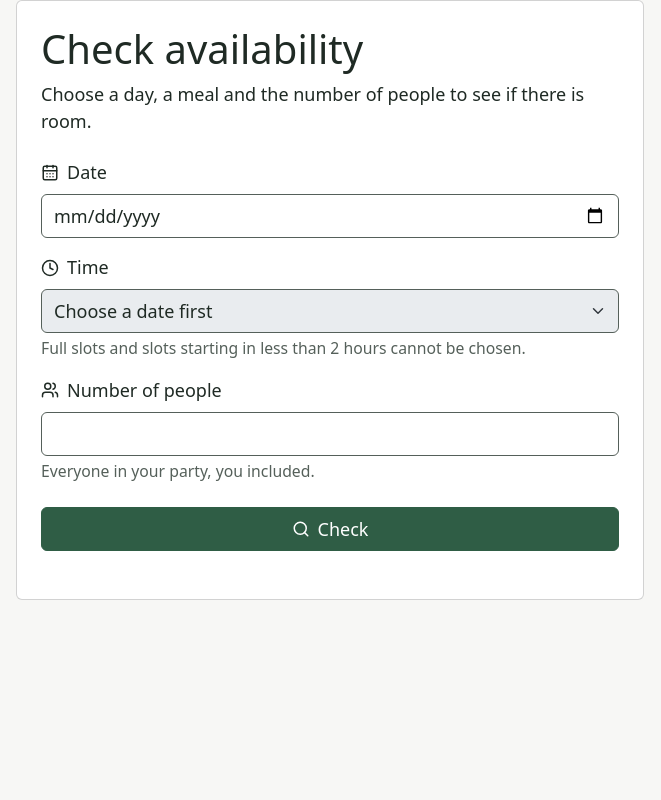
Test: CheckAvailabilityPage › C5: available → announced status with the seat split, no table names
The width and height of the screenshot is (661, 800).
Type "2026-11-03" into the date field labelled "Date".
click(330, 216); type("2026-11-03")  # box top-left (41, 194), bottom-right (619, 238)
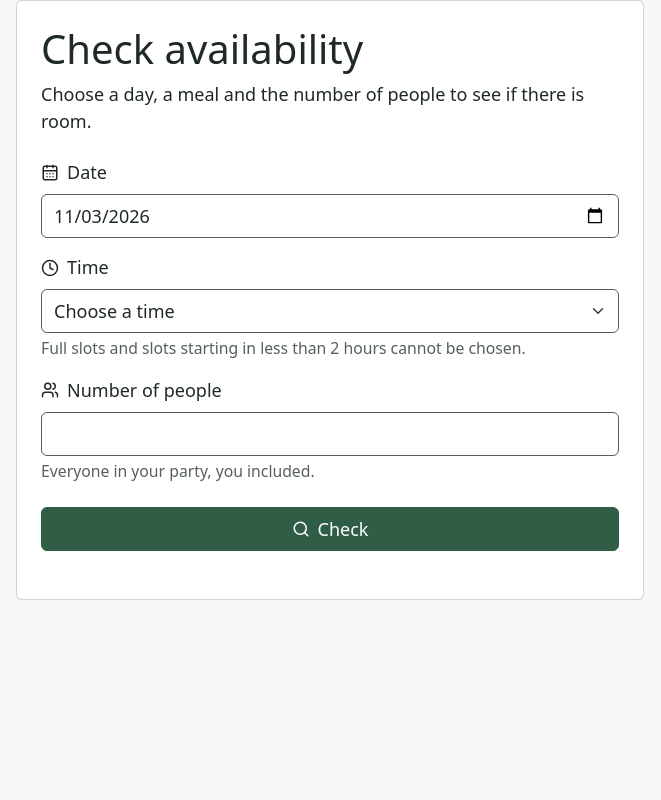
Result: the dropdown labelled "Time" is enabled
Select "Dinner, 19:00 – 20:30" in the dropdown labelled "Time" at (330, 311), box top-left (41, 289), bottom-right (619, 333)
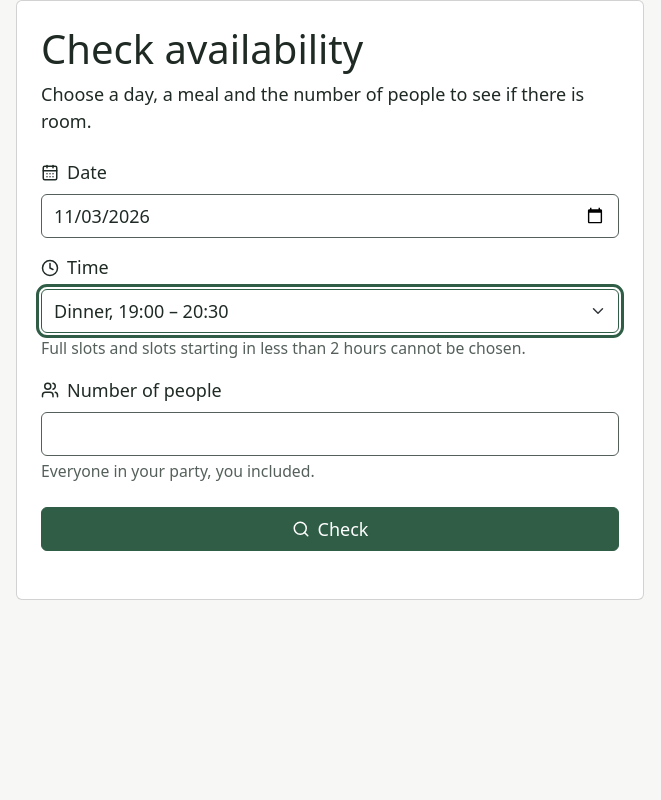
Type "6" into the number field labelled "Number of people".
click(330, 434); type("6")  # box top-left (41, 412), bottom-right (619, 456)
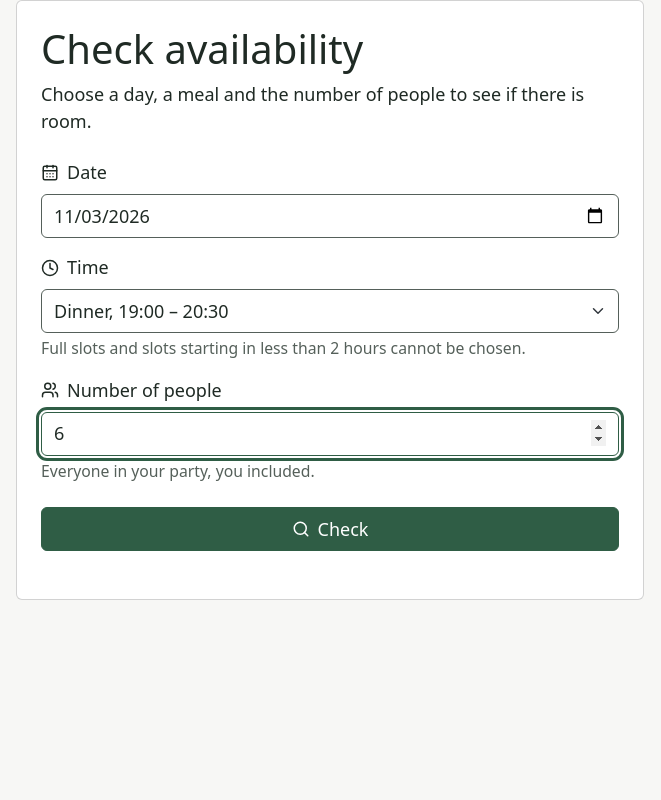
Click the button "Check".
click(330, 529)  # box top-left (41, 507), bottom-right (619, 551)
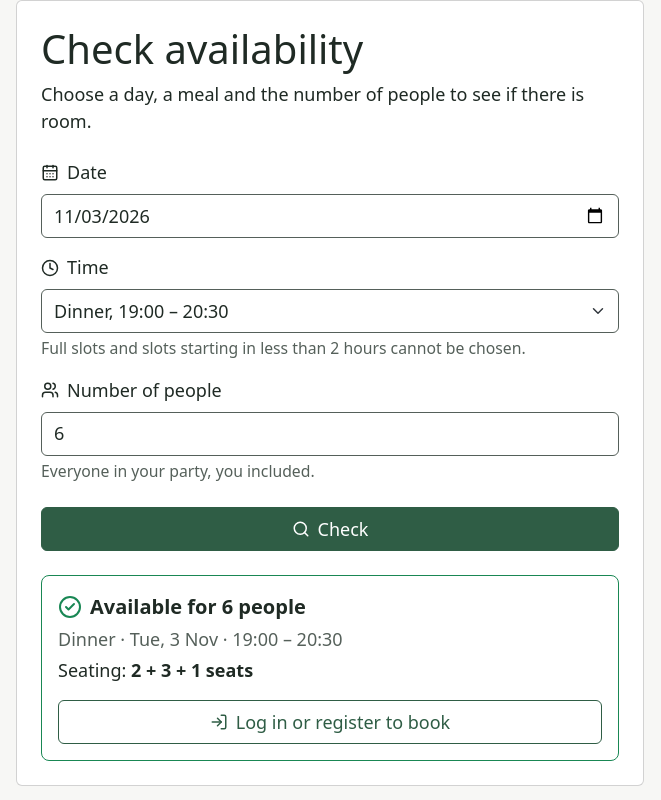
Result: the message is shown at top-left (58, 593), bottom-right (343, 682)
Result: the message shows "2 + 3 + 1 seats" at top-left (131, 658), bottom-right (253, 682)
